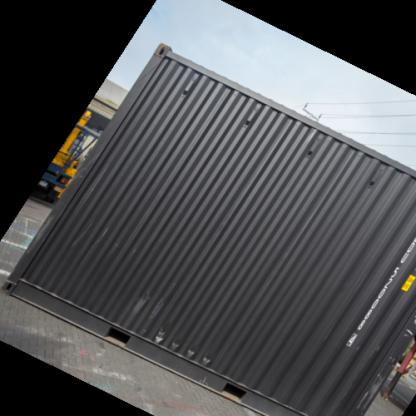Damage: (144, 326, 224, 368), (20, 200, 58, 266)
